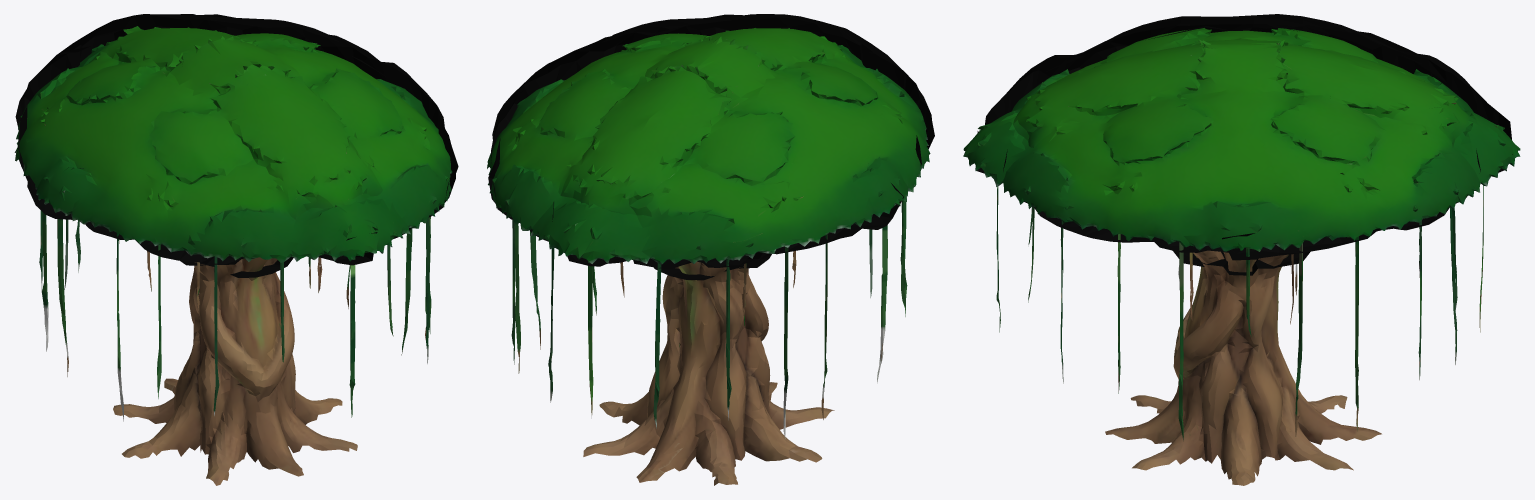
File: Jungle_BanyanTree.glb
3 views of the same model, side by side, from view 1: azimuth 30°, elevation 25°; view 2: azimuth 150°, elevation 25°; view 3: azimuth 270°, elevation 25° (orthographic). The views are drawn at different scales.
Visible parts, largest first — view 1: Jungle_BanyanTree, Jungle_BanyanTree_OutlineHull; view 2: Jungle_BanyanTree, Jungle_BanyanTree_OutlineHull; view 3: Jungle_BanyanTree, Jungle_BanyanTree_OutlineHull.
Boxes of the visible parts, <box> form: Jungle_BanyanTree: <box>14,26,452,485</box>; Jungle_BanyanTree_OutlineHull: <box>15,14,458,277</box>; Jungle_BanyanTree: <box>487,28,930,485</box>; Jungle_BanyanTree_OutlineHull: <box>488,14,934,280</box>; Jungle_BanyanTree: <box>963,28,1520,485</box>; Jungle_BanyanTree_OutlineHull: <box>977,14,1512,275</box>.
Size of the model in its own units: 1.55 by 1.53 by 1.89.
Materials: 2 (1 with a texture image).
